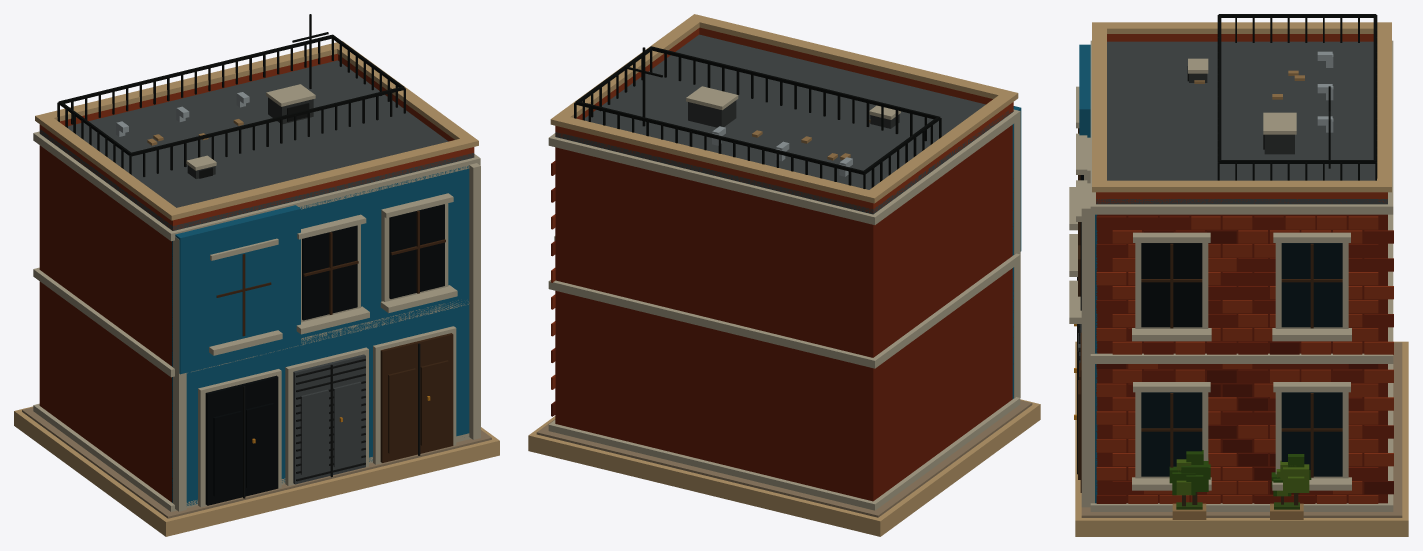
File: SM_Mapa_031.fbx
The picture shows the model from 3 angles, left to right: view 1: azimuth 30°, elevation 25°; view 2: azimuth 150°, elevation 25°; view 3: azimuth 270°, elevation 25°; orthographic projection. The views are drawn at different scales.
Visible parts, largest first — view 1: SM_Mapa_031; view 2: SM_Mapa_031; view 3: SM_Mapa_031.
Boxes of the visible parts, x1,y1,x2,y2 form: SM_Mapa_031: (14, 14, 499, 536); SM_Mapa_031: (528, 14, 1040, 536); SM_Mapa_031: (1069, 14, 1408, 536).
Bounding box in the file's own units: 8 × 6.31 × 8.43.
